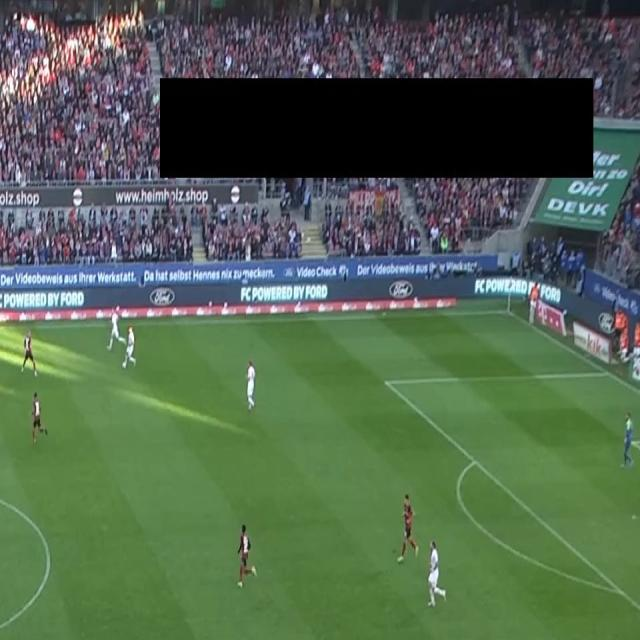ball: (122, 360, 126, 370)
